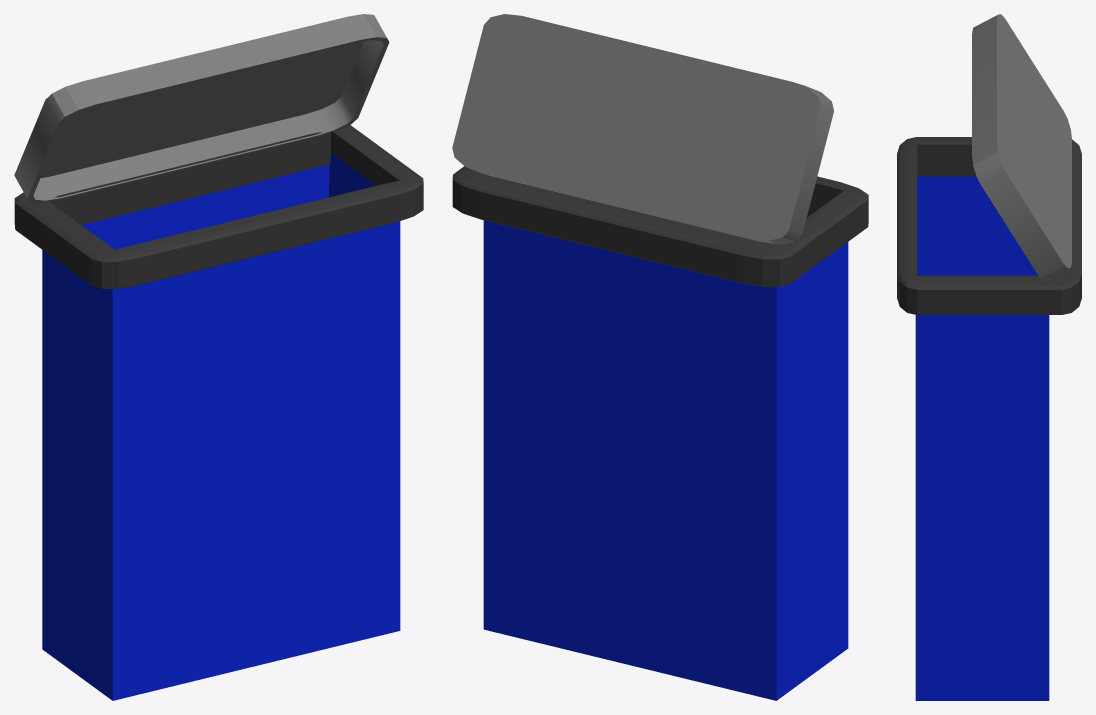
The model's file is trash_container.fbx.
3 renders of one model, left to right at view 1: azimuth 30°, elevation 25°; view 2: azimuth 150°, elevation 25°; view 3: azimuth 270°, elevation 25°, orthographic. The views are drawn at different scales.
Visible parts, largest first — view 1: Cube.057, Cube.047, Cube.046; view 2: Cube.057, Cube.047, Cube.046; view 3: Cube.057, Cube.047, Cube.046.
Boxes of the visible parts, <box> form: Cube.057: <box>42,153,400,700</box>; Cube.047: <box>14,14,389,203</box>; Cube.046: <box>14,125,423,288</box>; Cube.057: <box>483,216,848,700</box>; Cube.047: <box>452,14,833,244</box>; Cube.046: <box>452,166,868,287</box>; Cube.057: <box>915,176,1049,700</box>; Cube.047: <box>972,14,1071,281</box>; Cube.046: <box>897,137,1081,314</box>.
Size of the model in its own units: 63.76 by 108 by 32.55.
